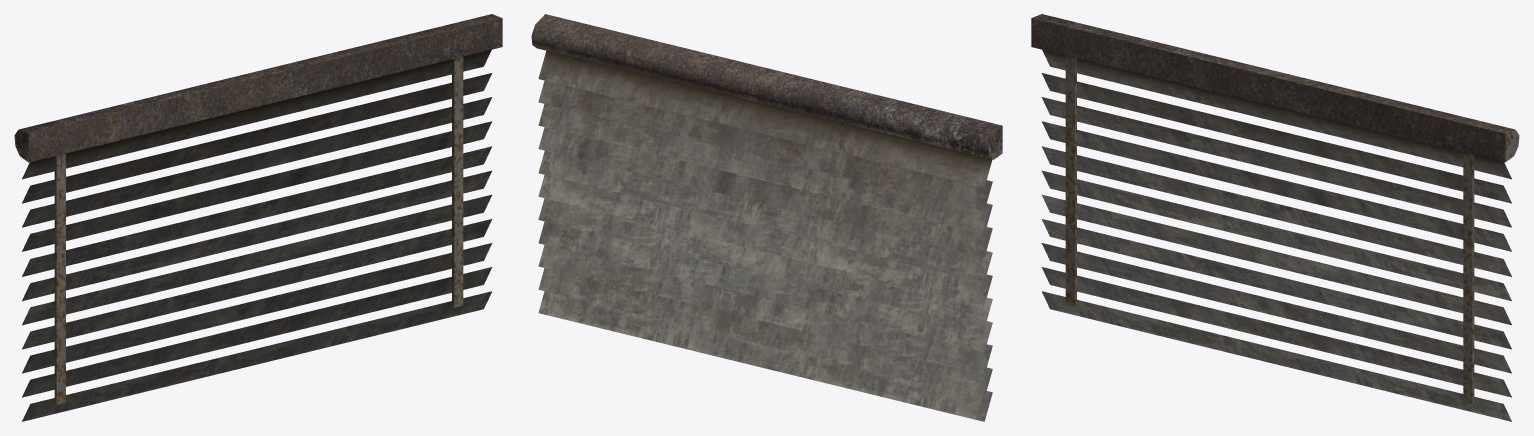
Rendered from LargeBlinds.FBX.
3 renders of one model, left to right at view 1: azimuth 30°, elevation 25°; view 2: azimuth 150°, elevation 25°; view 3: azimuth 330°, elevation 25°, orthographic. The views are drawn at different scales.
Parts seen in each view (by area): view 1: LargeBlinds; view 2: LargeBlinds; view 3: LargeBlinds.
Part boxes in pixels (x1,y1,x2,y2): LargeBlinds: [14, 14, 502, 421]; LargeBlinds: [531, 14, 1002, 421]; LargeBlinds: [1031, 14, 1519, 421].
Size of the model in its own units: 256 by 155 by 13.39.
